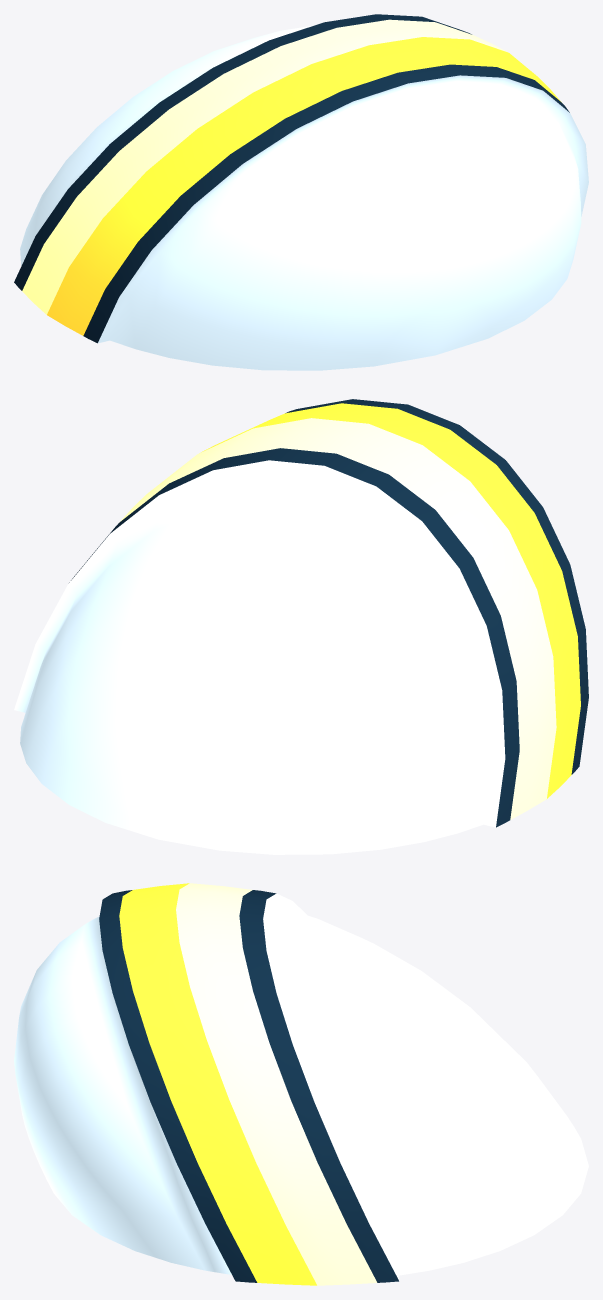
File: shot_microbomb_273.glb
3 views of the same model, one above another, from view 1: azimuth 30°, elevation 25°; view 2: azimuth 150°, elevation 25°; view 3: azimuth 270°, elevation 25° (orthographic). The views are drawn at different scales.
Visible parts, largest first — view 1: mb_ball; view 2: mb_ball; view 3: mb_ball.
Part boxes in pixels (x1,y1,x2,y2): mb_ball: (14,14,588,370); mb_ball: (14,399,588,854); mb_ball: (14,883,588,1285).
Size of the model in its own units: 10.84 by 5.42 by 11.01.
